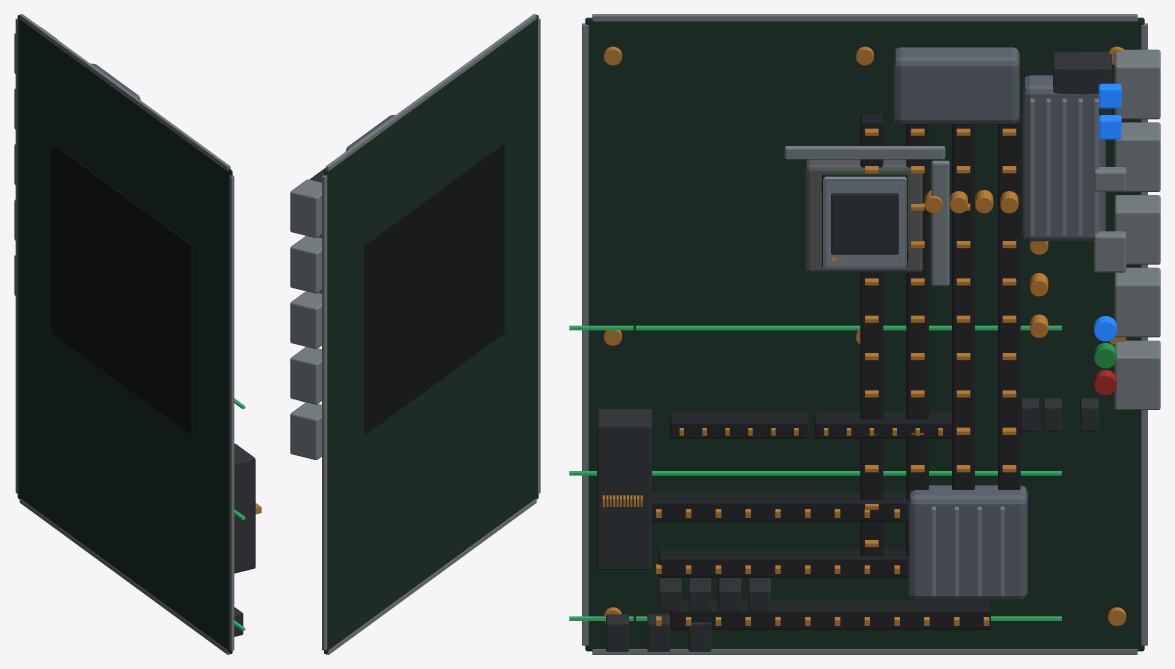
File: cpu.glb
3 renders of one model, left to right at view 1: azimuth 30°, elevation 25°; view 2: azimuth 150°, elevation 25°; view 3: azimuth 270°, elevation 25°, orthographic. The views are drawn at different scales.
Visible parts, largest first — view 1: MB_PCB, CPU_Render_Ground, MB_PCB_Edge_Front, MB_24Pin_ATX, MB_PCB_Edge_Rear, MB_PCB_Edge_Top, MB_PCB_Edge_Bottom; view 2: MB_PCB, CPU_Render_Ground, MB_PCB_Edge_Rear, MB_RearIO_Block_01, MB_RearIO_Block_02, MB_RearIO_Block_03, MB_RearIO_Block_04, MB_RearIO_Block_05, MB_PCB_Edge_Top, MB_PCB_Edge_Front, MB_PCB_Edge_Bottom; view 3: MB_PCB, MB_ChipsetHeatsink, MB_VRMHeatsink_Top, MB_VRMHeatsink_Left, MB_24Pin_ATX, MB_PCIeSlot_03, MB_DIMMSlot_01, MB_DIMMSlot_02, MB_PCIeSlot_01, MB_PCIeSlot_02, MB_DIMMSlot_04, MB_DIMMSlot_03 (+21 smaller).
Boxes of the visible parts, x1,y1,x2,y2 form: MB_PCB: [17, 15, 232, 653]; CPU_Render_Ground: [51, 143, 192, 435]; MB_PCB_Edge_Front: [229, 175, 234, 650]; MB_24Pin_ATX: [234, 443, 255, 573]; MB_PCB_Edge_Rear: [15, 18, 18, 493]; MB_PCB_Edge_Top: [19, 14, 230, 171]; MB_PCB_Edge_Bottom: [19, 498, 230, 654]; MB_PCB: [324, 15, 538, 653]; CPU_Render_Ground: [364, 143, 504, 435]; MB_PCB_Edge_Rear: [322, 175, 327, 650]; MB_RearIO_Block_01: [290, 179, 321, 237]; MB_RearIO_Block_02: [290, 236, 321, 293]; MB_RearIO_Block_03: [290, 291, 321, 348]; MB_RearIO_Block_04: [290, 347, 321, 404]; MB_RearIO_Block_05: [290, 402, 321, 459]; MB_PCB_Edge_Top: [326, 14, 536, 171]; MB_PCB_Edge_Front: [538, 18, 540, 494]; MB_PCB_Edge_Bottom: [326, 498, 536, 654]; MB_PCB: [585, 17, 1144, 651]; MB_ChipsetHeatsink: [908, 485, 1027, 599]; MB_VRMHeatsink_Top: [893, 47, 1019, 123]; MB_VRMHeatsink_Left: [1023, 75, 1105, 241]; MB_24Pin_ATX: [597, 409, 651, 569]; MB_PCIeSlot_03: [670, 601, 990, 629]; MB_DIMMSlot_01: [998, 114, 1020, 489]; MB_DIMMSlot_02: [952, 124, 974, 489]; MB_PCIeSlot_01: [652, 493, 908, 521]; MB_PCIeSlot_02: [658, 549, 908, 577]; MB_DIMMSlot_04: [860, 113, 883, 556]; MB_DIMMSlot_03: [906, 124, 928, 556].
Bounding box in the file's own units: 0.0275 × 0.308 × 0.258.
